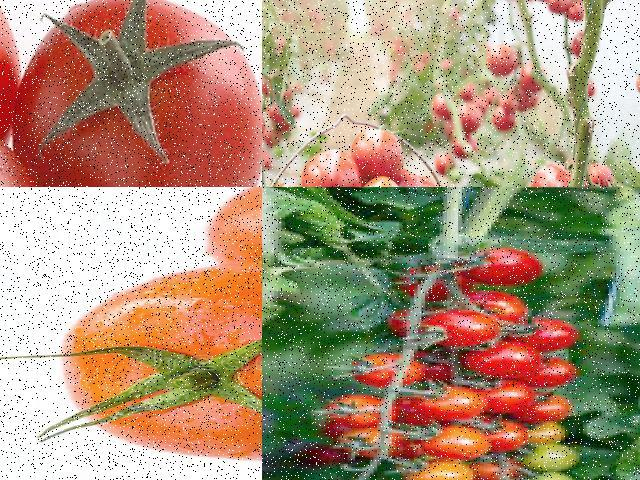tomato: (26, 0, 261, 186), (66, 257, 261, 475), (296, 390, 407, 426), (458, 244, 543, 290), (410, 310, 502, 351), (330, 351, 432, 387), (403, 386, 495, 422), (347, 129, 409, 180), (425, 430, 506, 462), (473, 349, 539, 380), (522, 157, 588, 186), (480, 380, 532, 414), (306, 158, 358, 186), (430, 150, 459, 183), (484, 45, 518, 72), (434, 92, 457, 123), (460, 106, 482, 132), (493, 108, 519, 128), (626, 70, 639, 100), (548, 0, 575, 13)
